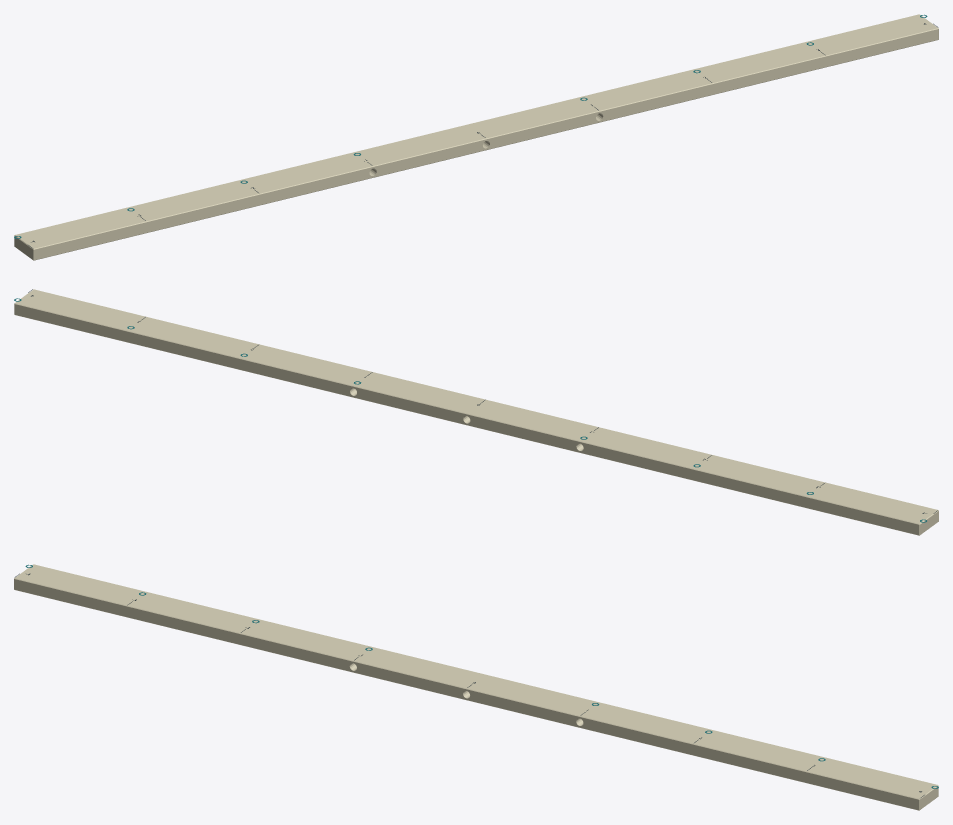
File: VLAB_lever.fbx
The picture shows the model from 3 angles, top to bottom: view 1: azimuth 30°, elevation 25°; view 2: azimuth 150°, elevation 25°; view 3: azimuth 330°, elevation 25°; orthographic projection.
Parts seen in each view (by area): view 1: VLAB_lever_Beam_VIS; view 2: VLAB_lever_Beam_VIS; view 3: VLAB_lever_Beam_VIS.
Part boxes in pixels (x1,y1,x2,y2): VLAB_lever_Beam_VIS: (14, 14, 938, 260); VLAB_lever_Beam_VIS: (14, 289, 938, 535); VLAB_lever_Beam_VIS: (14, 564, 938, 810).
Bounding box in the file's own units: 0.806 × 0.0103 × 0.03.
